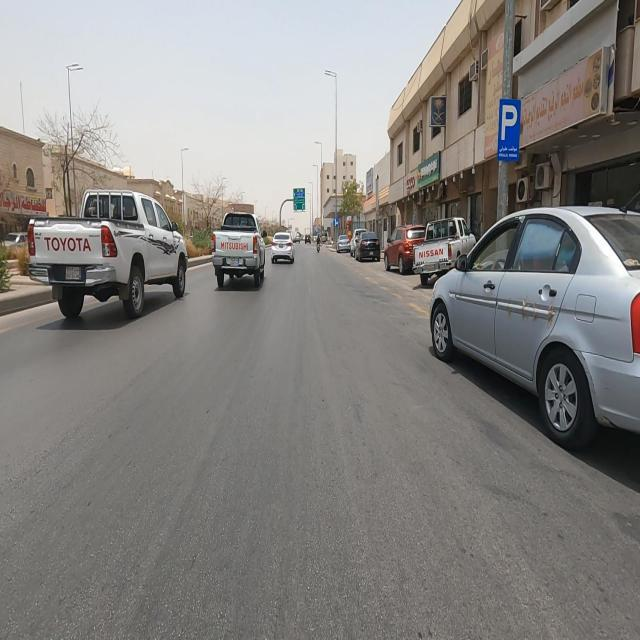debris: (452, 50, 640, 174)
